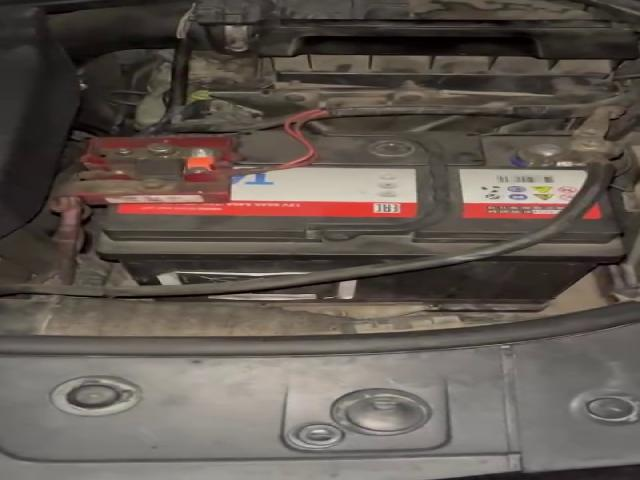accumulator: (62, 134, 628, 310)
